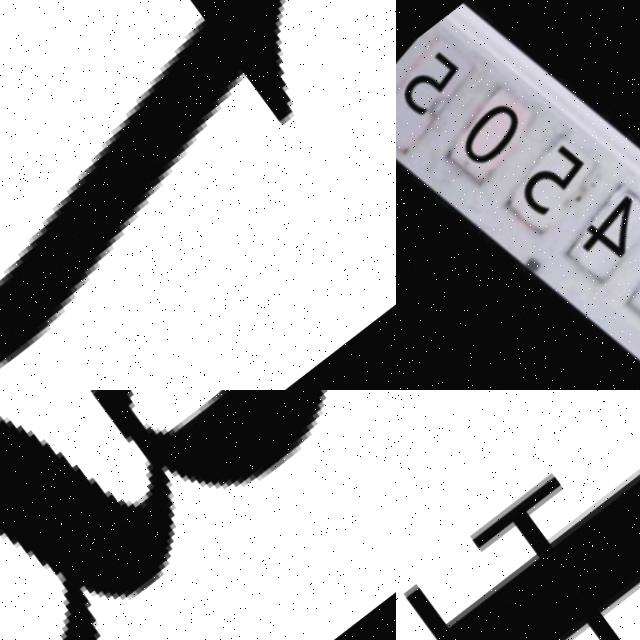0: (440, 82, 555, 193)
4: (559, 174, 640, 292)
5: (497, 127, 619, 243), (396, 33, 490, 139)
T: (0, 0, 396, 390)
